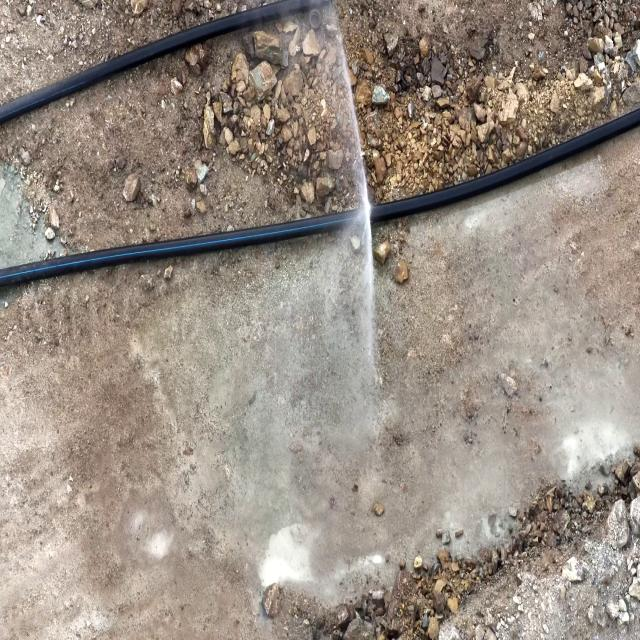leak: (334, 9, 378, 375)
